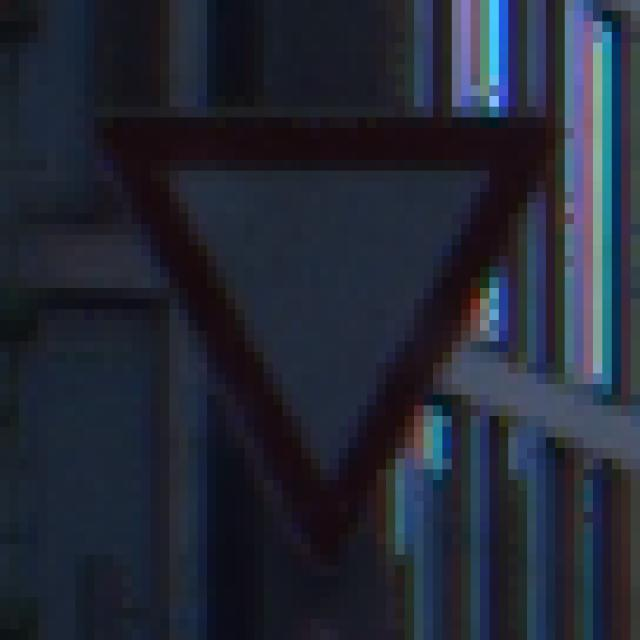Give Way: (58, 65, 585, 588)
